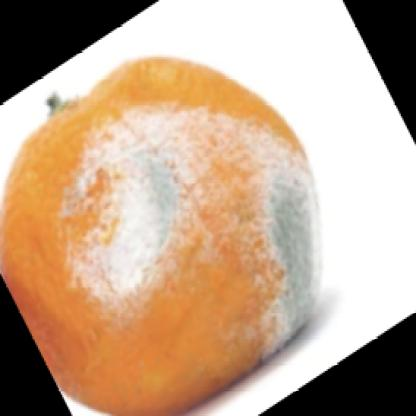rotten: (6, 59, 319, 416)
